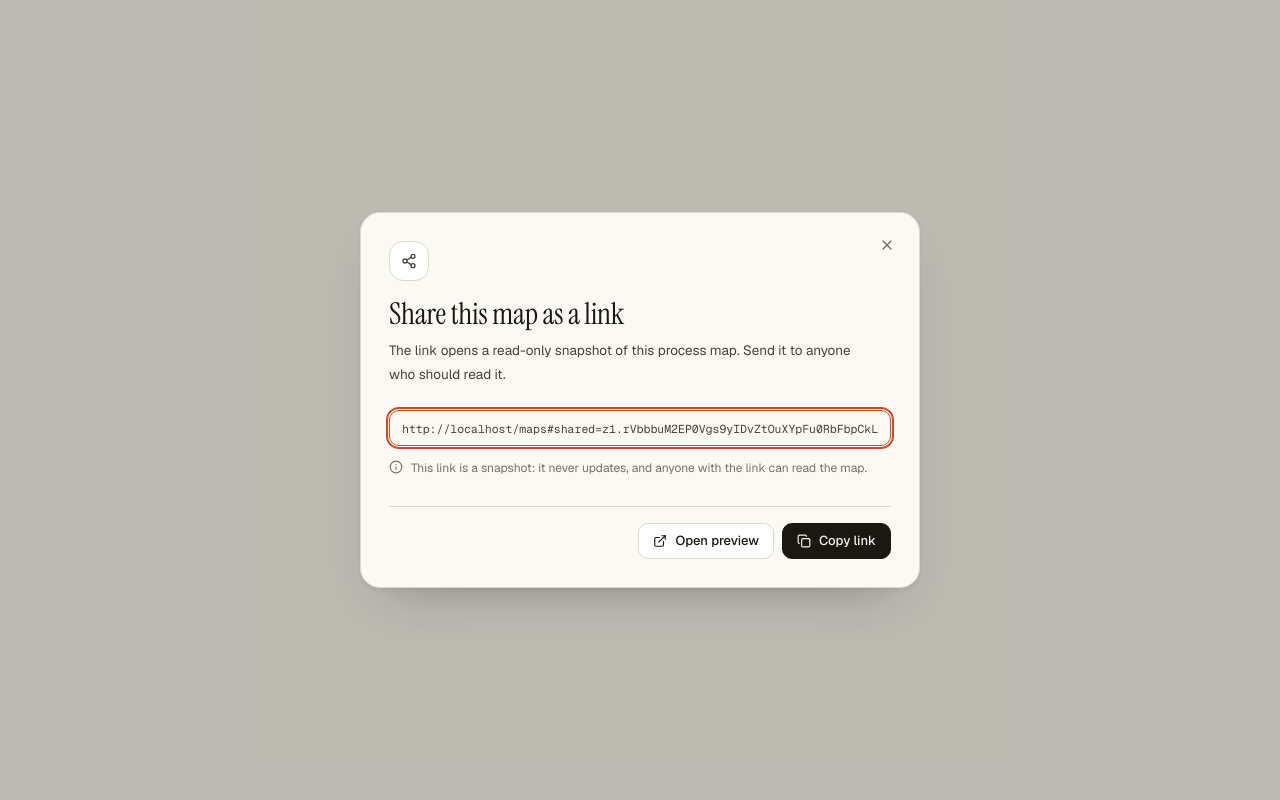
Test: share dialog › copies the link to the clipboard and announces the result
Step 1. Click the button "Copy link" → (836, 541), box [782, 523, 891, 559]
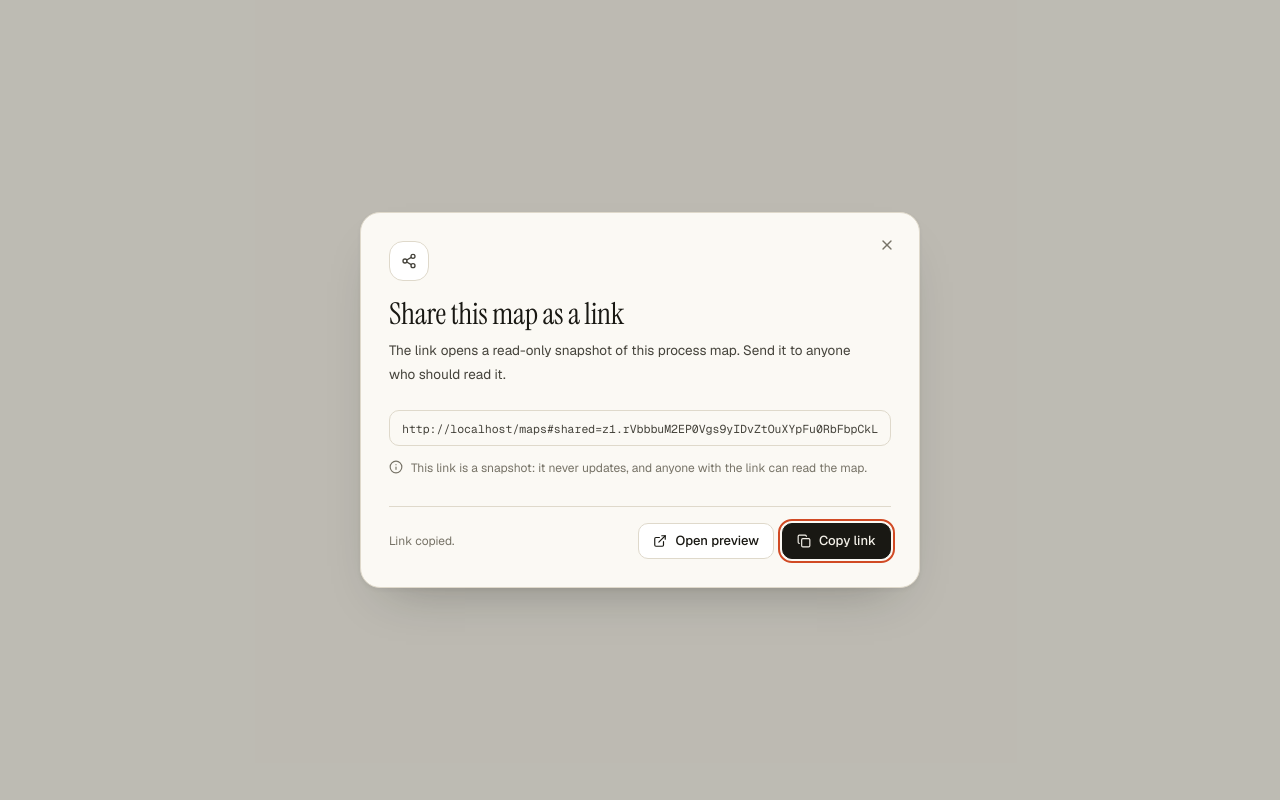
Now the message reads "Link copied.", box [389, 533, 454, 549]
